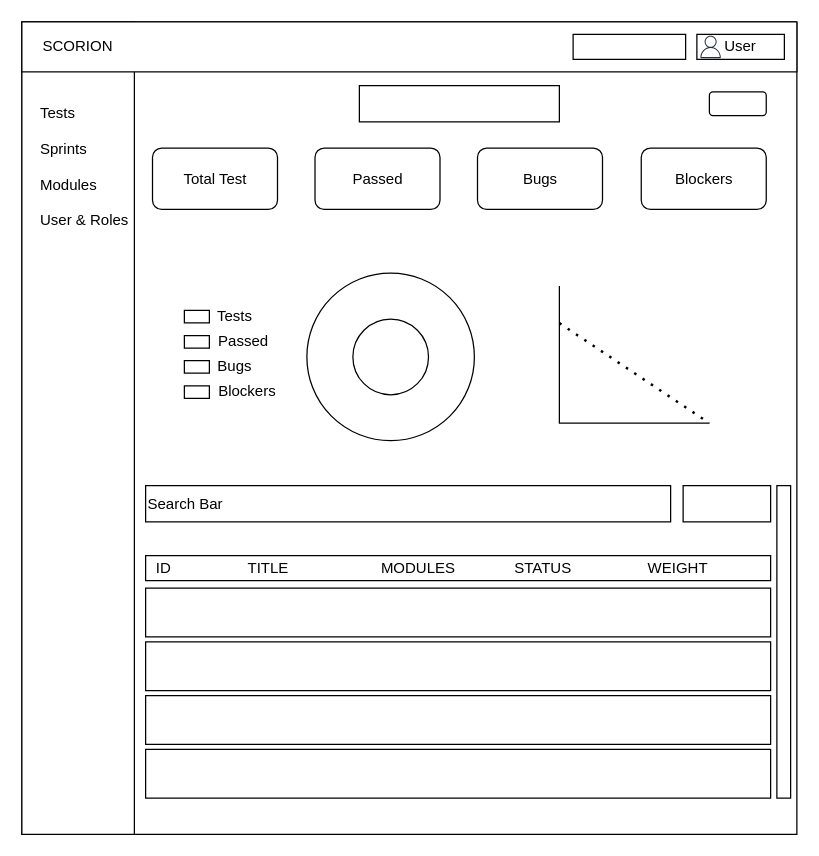
Some shapes in this 819 by 856 pixel diagram are drawn without their labels. Each missing label, with the centre of its shape:
"Filter" goes at (x=726, y=503).
"Notifications" goes at (x=629, y=46).
"RESET" goes at (x=737, y=103).
"TITLE OF SPRINT" goes at (x=458, y=103).
